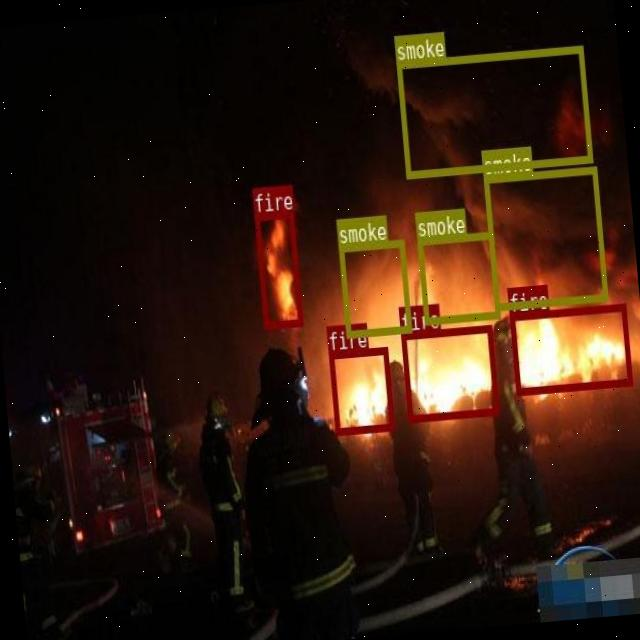fire: (509, 302, 631, 393), (400, 323, 498, 421), (328, 346, 393, 434), (254, 209, 302, 327)
smoke: (396, 44, 591, 176), (482, 166, 607, 308), (416, 230, 499, 323), (338, 238, 412, 336)
